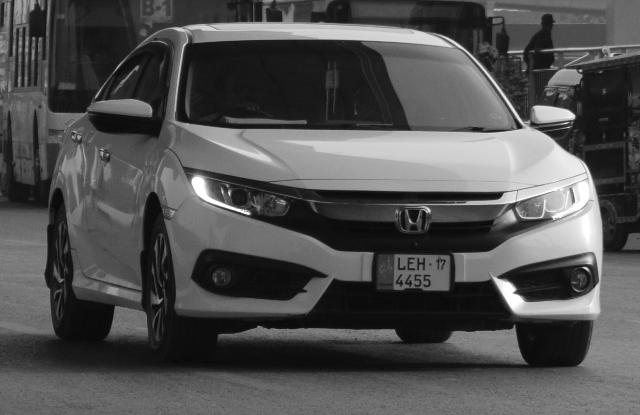Number: (396, 257, 434, 289)
